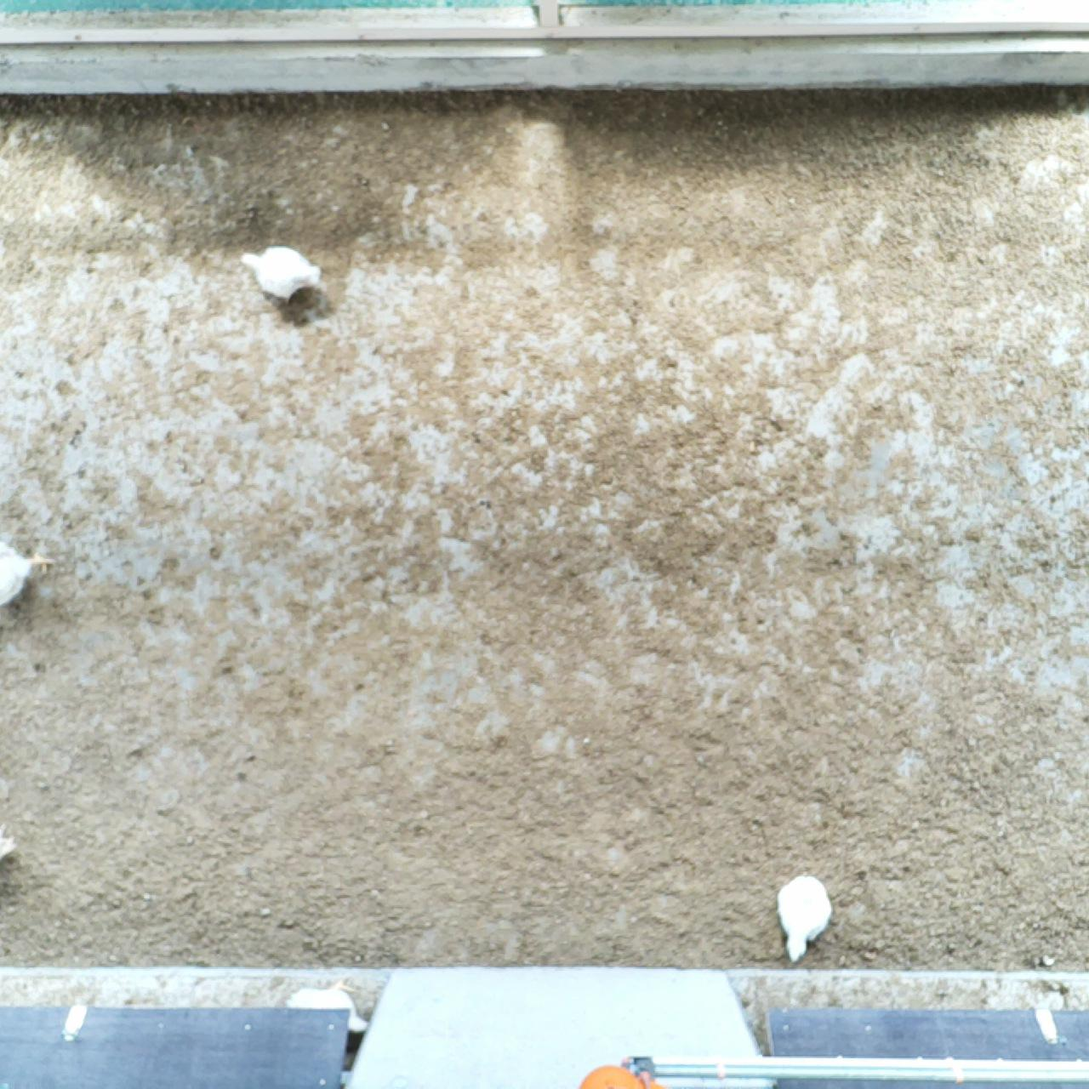chicken: (774, 866, 836, 972), (231, 241, 328, 305), (0, 537, 58, 611)
